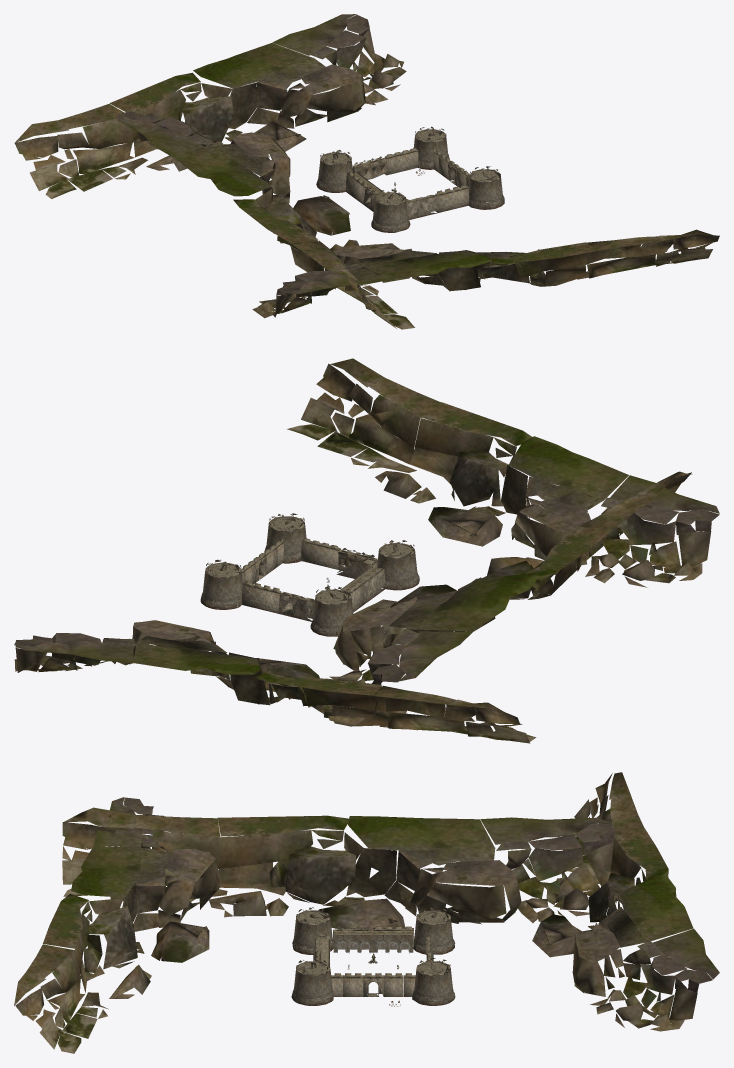
Rendered from western-fort-far.glb.
3 renders of one model, top to bottom at view 1: azimuth 30°, elevation 25°; view 2: azimuth 150°, elevation 25°; view 3: azimuth 270°, elevation 25°, orthographic. The views are drawn at different scales.
Visible parts, largest first — view 1: western-fort-quest / coastal_cliff_04, western-fort-quest / modular_fort_01_wall_1; view 2: western-fort-quest / coastal_cliff_04, western-fort-quest / modular_fort_01_wall_1; view 3: western-fort-quest / coastal_cliff_04, western-fort-quest / modular_fort_01_wall_1, western-fort-quest / modular_fort_01_wall_1.001.
Part boxes in pixels (box(x1,y1,x2,y2)): western-fort-quest / coastal_cliff_04: box(14, 14, 719, 329); western-fort-quest / modular_fort_01_wall_1: box(316, 126, 504, 232); western-fort-quest / coastal_cliff_04: box(14, 358, 719, 743); western-fort-quest / modular_fort_01_wall_1: box(200, 513, 419, 636); western-fort-quest / coastal_cliff_04: box(14, 772, 719, 1053); western-fort-quest / modular_fort_01_wall_1: box(291, 907, 455, 1005); western-fort-quest / modular_fort_01_wall_1.001: box(333, 931, 413, 953).
Size of the model in its own units: 206 by 26.12 by 258.
Materials: 11 (11 with a texture image).
